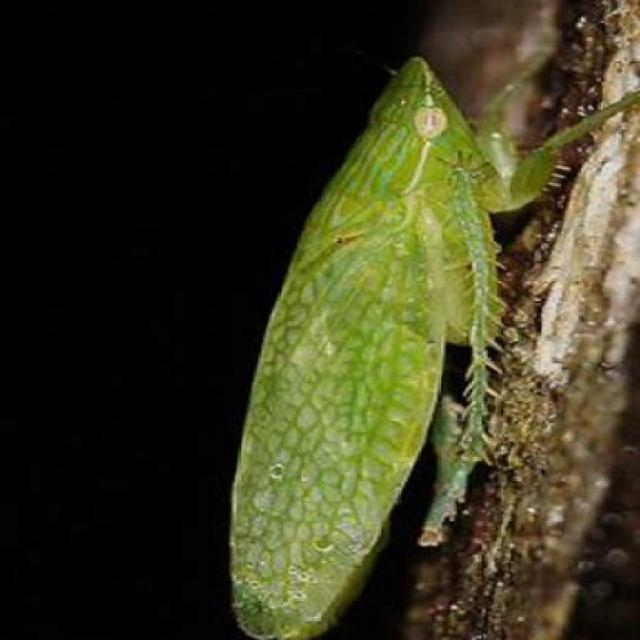green-leafhopper: (239, 58, 563, 637)
